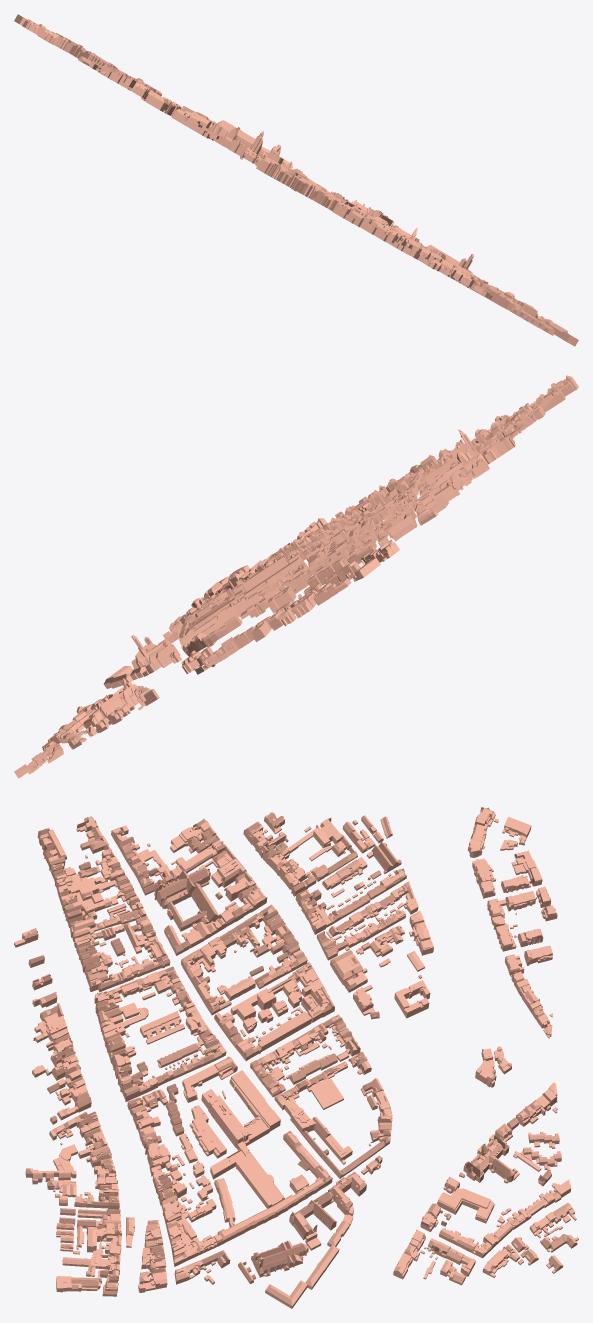
3 renders of one model, top to bottom at view 1: azimuth 30°, elevation 25°; view 2: azimuth 150°, elevation 25°; view 3: azimuth 270°, elevation 25°, orthographic. The views are drawn at different scales.
Size of the model in its own units: 531 by 407 by 656.
